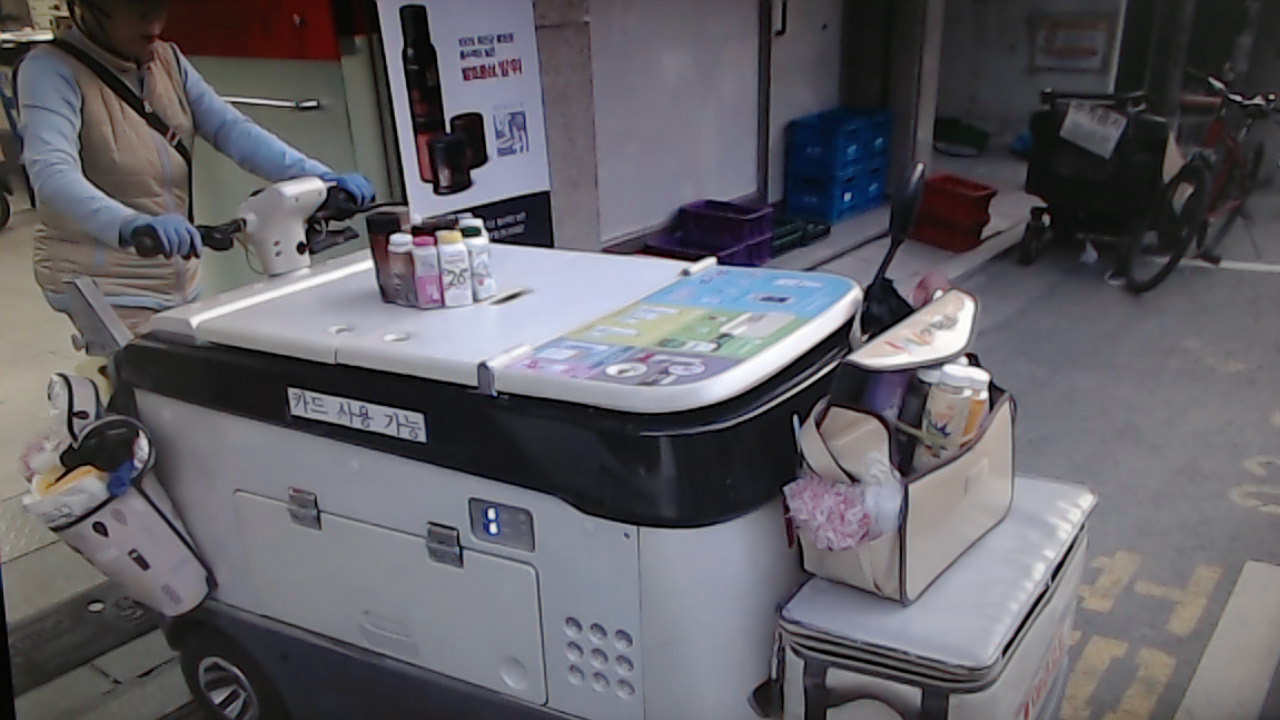Yakurut: (18, 6, 382, 374)
